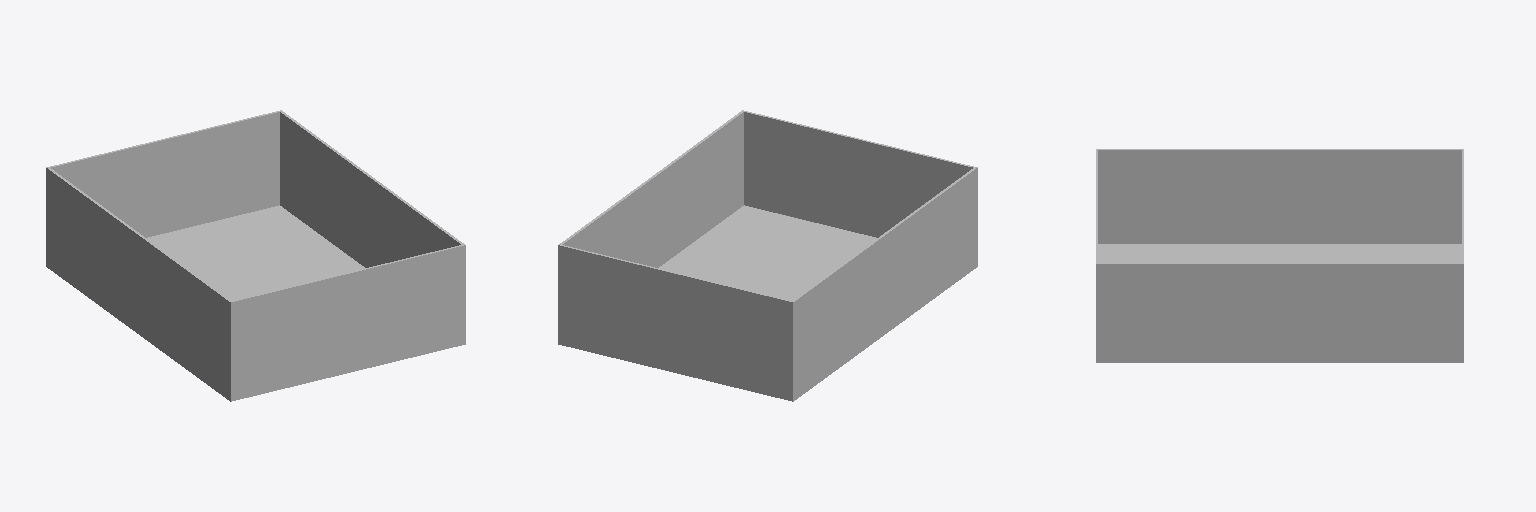
File: CajadelaCajaRegtrsadora.obj
3 views of the same model, side by side, from view 1: azimuth 30°, elevation 25°; view 2: azimuth 150°, elevation 25°; view 3: azimuth 270°, elevation 25° (orthographic).
Visible parts, largest first — view 1: CajaDeLaCaja:polySurface163pCylinder26; view 2: CajaDeLaCaja:polySurface163pCylinder26; view 3: CajaDeLaCaja:polySurface163pCylinder26.
Boxes of the visible parts, <box> form: CajaDeLaCaja:polySurface163pCylinder26: <box>46,110,465,401</box>; CajaDeLaCaja:polySurface163pCylinder26: <box>558,110,977,401</box>; CajaDeLaCaja:polySurface163pCylinder26: <box>1096,149,1463,362</box>.
Size of the model in its own units: 0.3899 by 0.1573 by 0.5297.